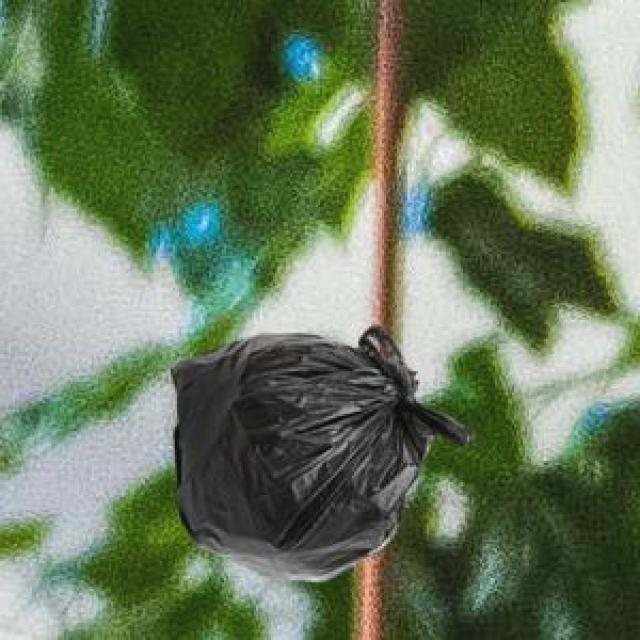Trashbag: (159, 318, 476, 588)
